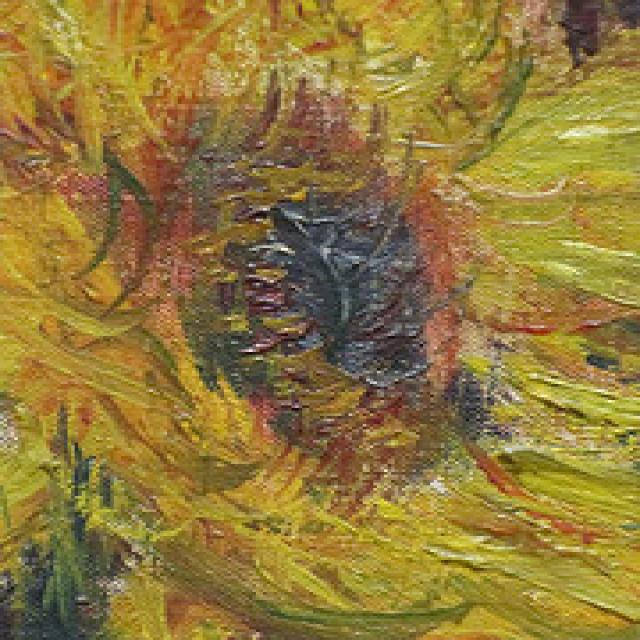sunflower: (12, 12, 633, 596)
